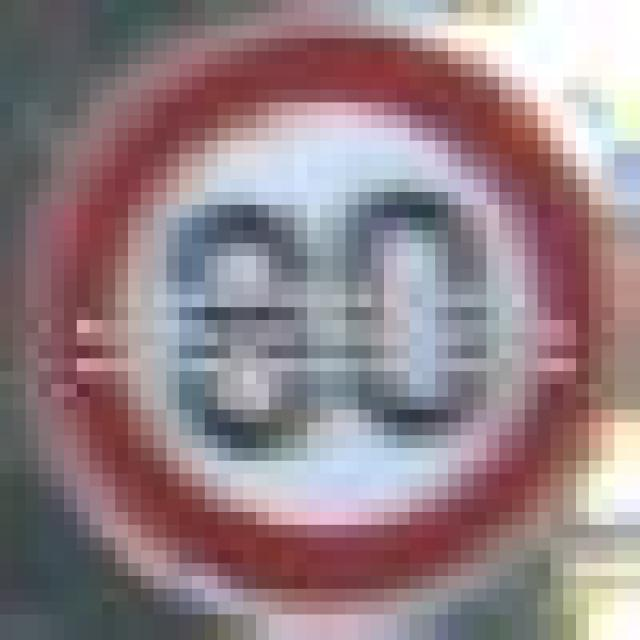SPEED_LIMIT_80: (26, 13, 576, 563)
